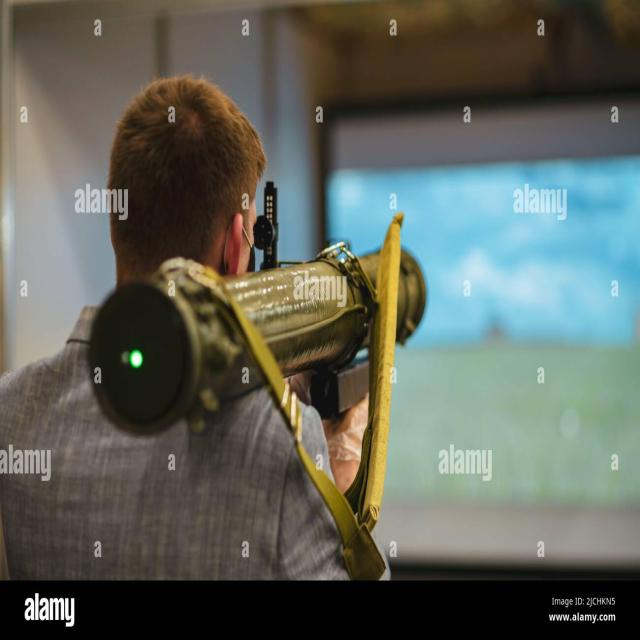bazooka: (81, 181, 469, 456)
